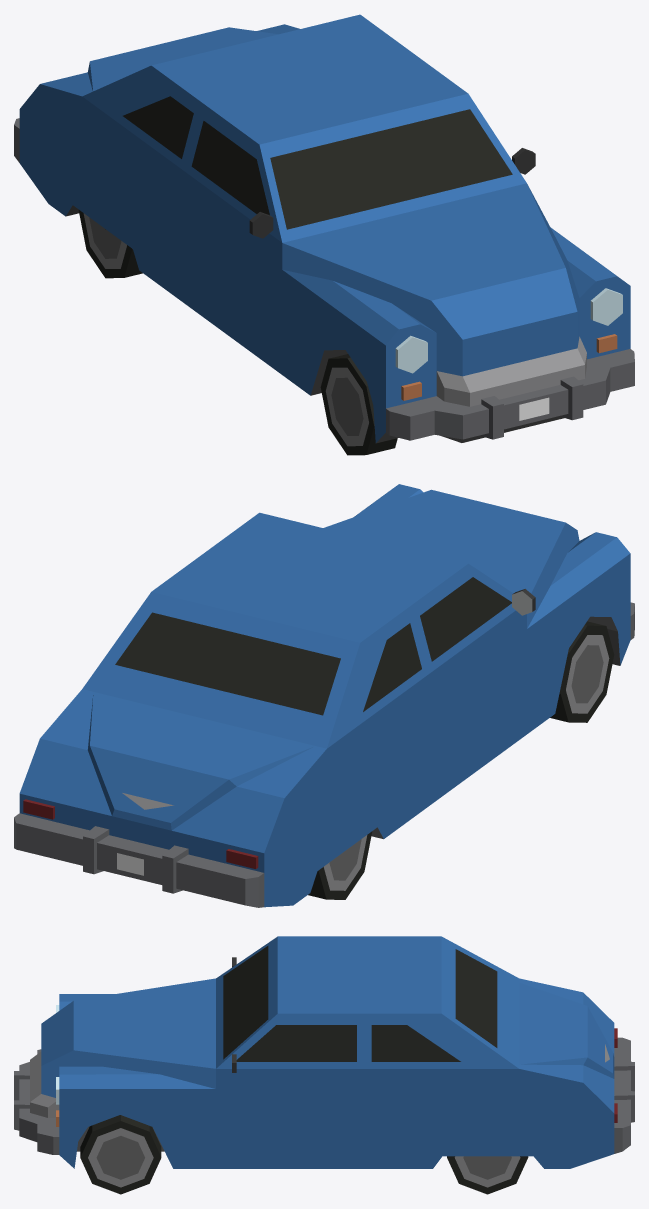
Rendered from Veh_Retro_Car_01_Blue.obj.
3 views of the same model, one above another, from view 1: azimuth 30°, elevation 25°; view 2: azimuth 150°, elevation 25°; view 3: azimuth 270°, elevation 25° (orthographic). The views are drawn at different scales.
Size of the model in its own units: 1.1 by 0.863 by 2.77.
